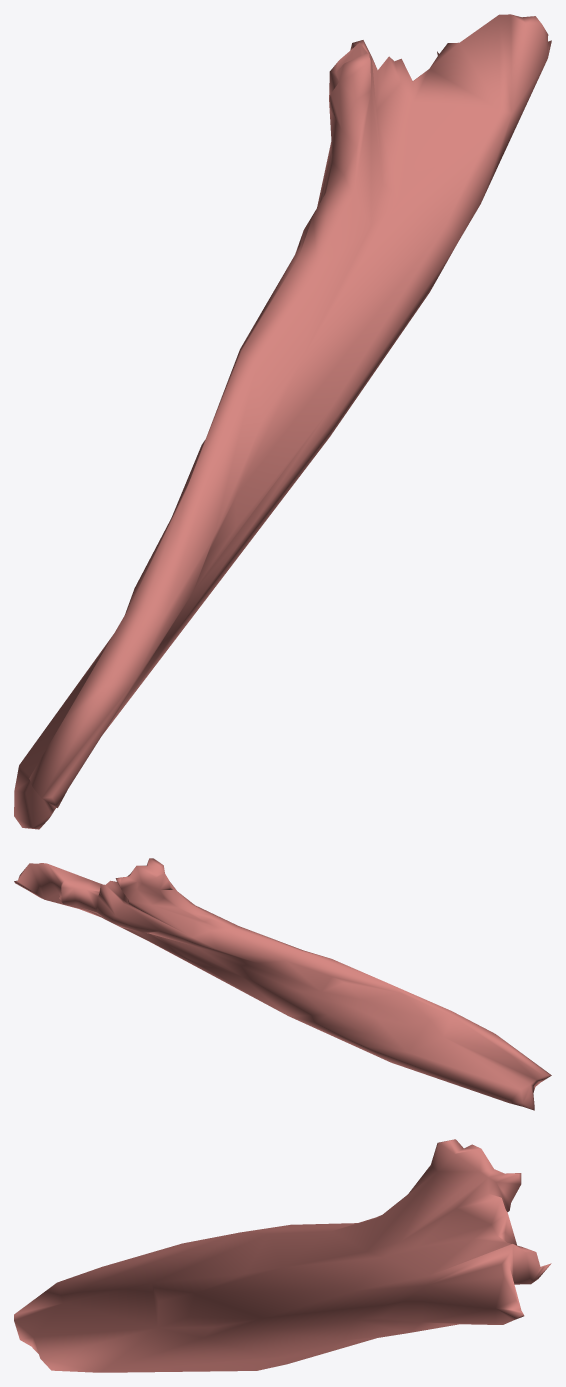
3 renders of one model, top to bottom at view 1: azimuth 30°, elevation 25°; view 2: azimuth 150°, elevation 25°; view 3: azimuth 270°, elevation 25°, orthographic. The views are drawn at different scales.
Parts seen in each view (by area): view 1: ZA_fa8cbe62aff33f1e; view 2: ZA_fa8cbe62aff33f1e; view 3: ZA_fa8cbe62aff33f1e.
Part boxes in pixels (bbox=[...]): ZA_fa8cbe62aff33f1e: bbox=[14, 14, 551, 829]; ZA_fa8cbe62aff33f1e: bbox=[14, 858, 551, 1110]; ZA_fa8cbe62aff33f1e: bbox=[14, 1139, 551, 1372].
Bounding box in the file's own units: 0.0463 × 0.0284 × 0.0287.
